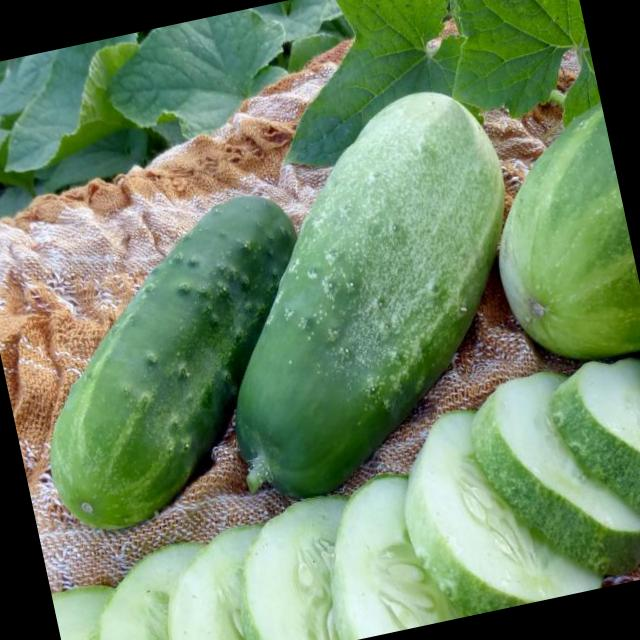Cucumber: (196, 80, 578, 510), (2, 188, 342, 539)
